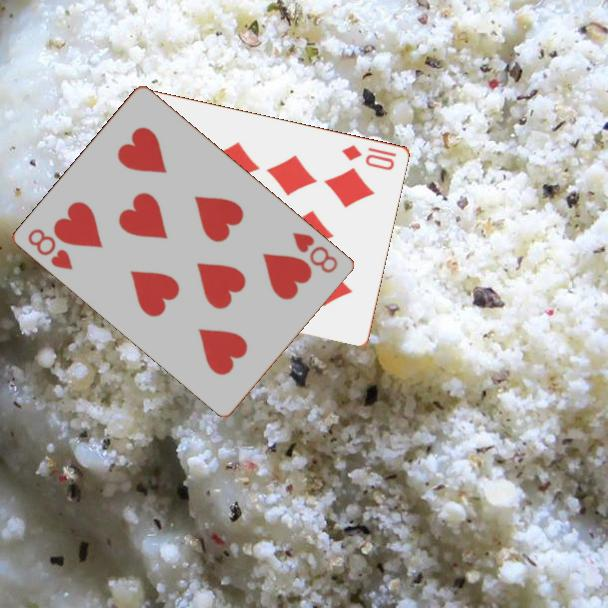d10: (339, 141, 400, 173)
h08: (25, 225, 76, 273), (289, 229, 341, 276)
